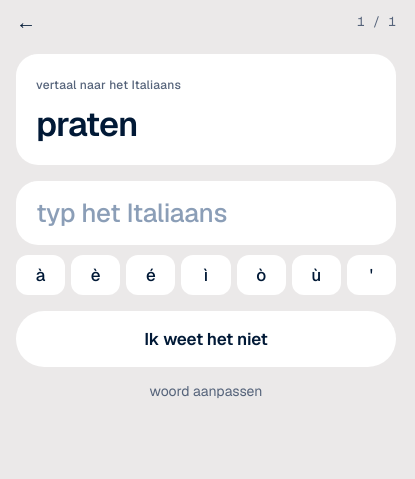
Test: Study – foute antwoorden worden niet overgeslagen › toont bij een fout antwoord de feedback en correctie-opties, zonder door te springen
Type "fout-antwoord" into the field with placeholder "typ het Italiaans" at (206, 213), box [16,181,396,245]
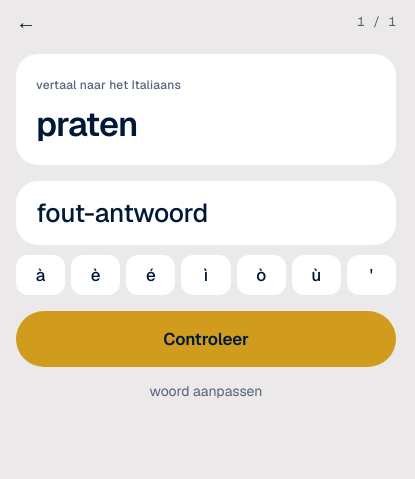
Click the button "Controleer" at (206, 339), box [16,311,396,367]
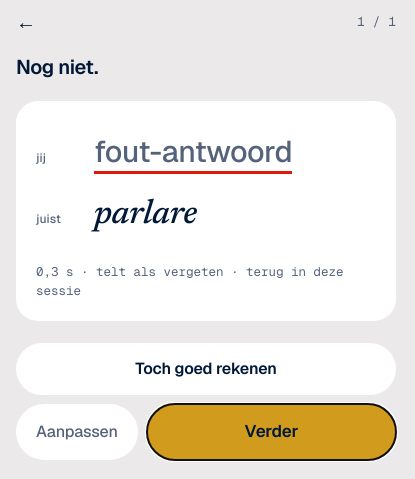
Expected: the heading "Nog niet." is shown, [16,54,98,80]
Expected: the text "parlare" is shown, [94,190,197,241]
Expected: the button "Toch goed rekenen" is shown, [16,342,396,394]
